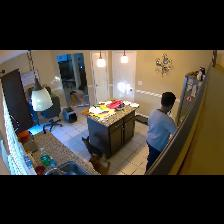person: (146, 92, 176, 172), (70, 84, 84, 106)
